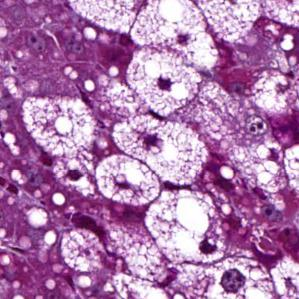ballooning: (113, 116, 210, 188), (145, 188, 227, 265), (126, 44, 204, 120), (94, 152, 161, 209)
